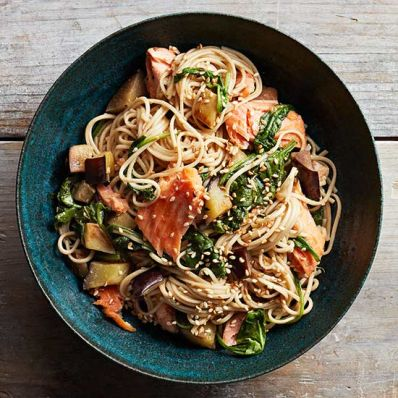Soba: (51, 41, 346, 363)
